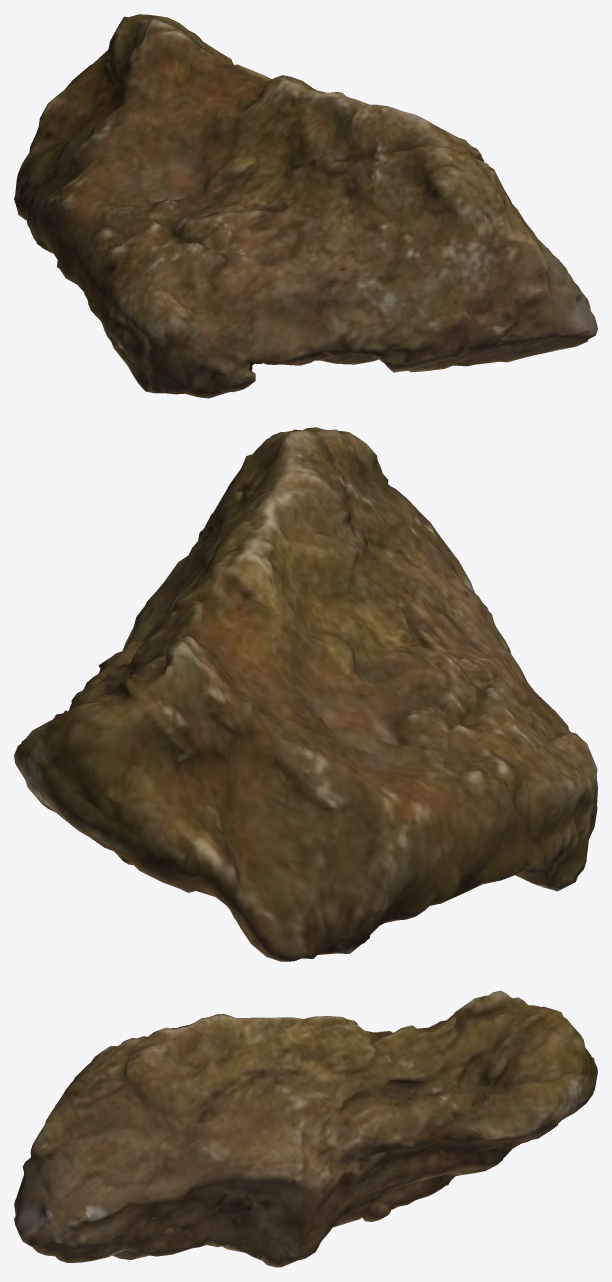
The model's file is rock_moss_set_01.glb.
The picture shows the model from 3 angles, top to bottom: view 1: azimuth 30°, elevation 25°; view 2: azimuth 150°, elevation 25°; view 3: azimuth 270°, elevation 25°; orthographic projection. The views are drawn at different scales.
Visible parts, largest first — view 1: rock_moss_set_01_rock01; view 2: rock_moss_set_01_rock01; view 3: rock_moss_set_01_rock01.
Part boxes in pixels (x1=…): rock_moss_set_01_rock01: x1=14, y1=14, x2=597, y2=398; rock_moss_set_01_rock01: x1=14, y1=427, x2=597, y2=961; rock_moss_set_01_rock01: x1=14, y1=990, x2=597, y2=1267.
Size of the model in its own units: 2.24 by 1.47 by 3.37.
Materials: 1 (1 with a texture image).
